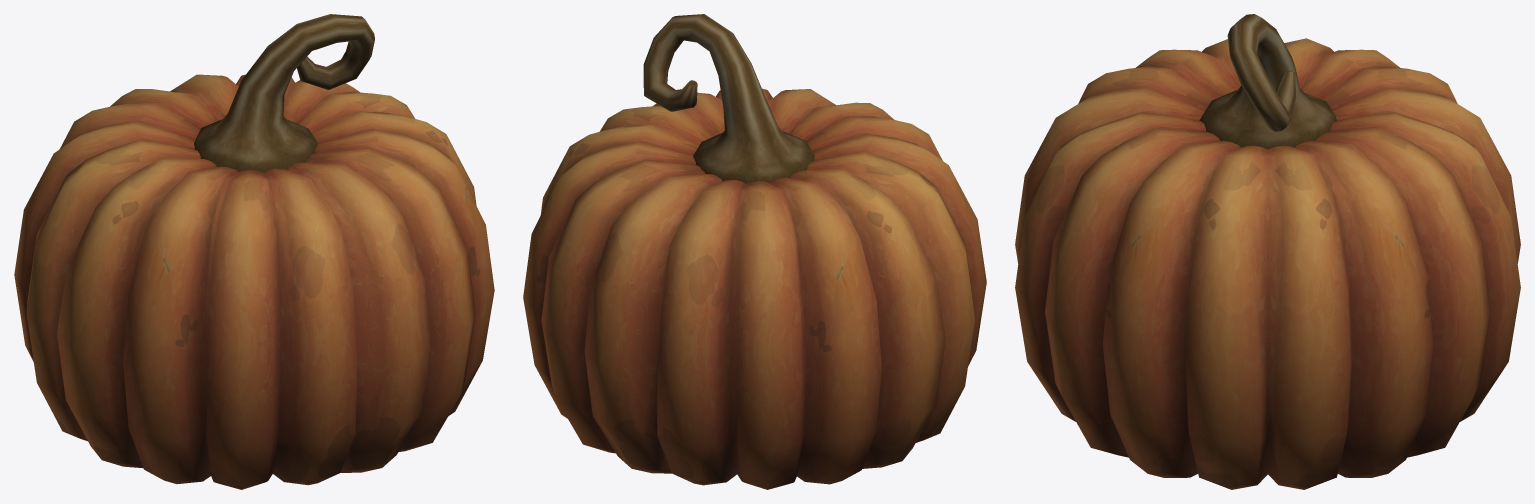
File: B8_pumpkin_00.FBX
The picture shows the model from 3 angles, left to right: view 1: azimuth 30°, elevation 25°; view 2: azimuth 150°, elevation 25°; view 3: azimuth 270°, elevation 25°; orthographic projection. The views are drawn at different scales.
Parts seen in each view (by area): view 1: B8_pumpkin; view 2: B8_pumpkin; view 3: B8_pumpkin.
Boxes of the visible parts, box(x1,y1,x2,y2) form: B8_pumpkin: box(14, 14, 494, 489); B8_pumpkin: box(523, 14, 986, 489); B8_pumpkin: box(1015, 14, 1520, 489).
Size of the model in its own units: 40.31 by 37.95 by 40.31.
1 material, 1 textured.
